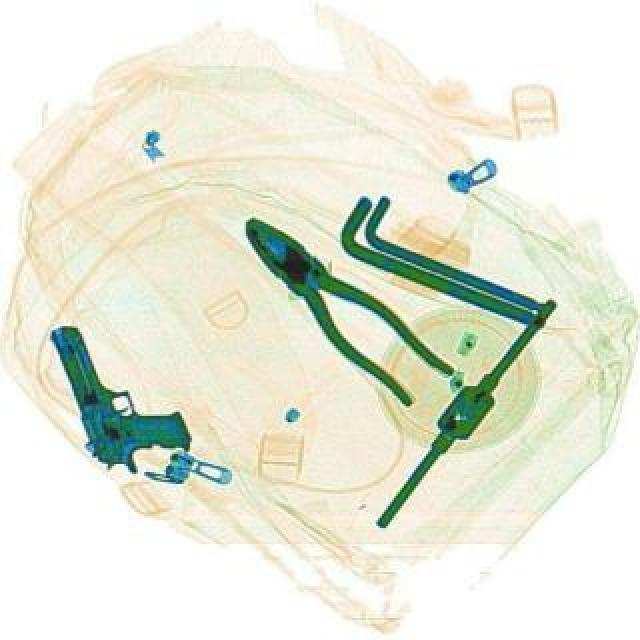gun: (42, 300, 194, 484)
wrench: (220, 198, 456, 414)
